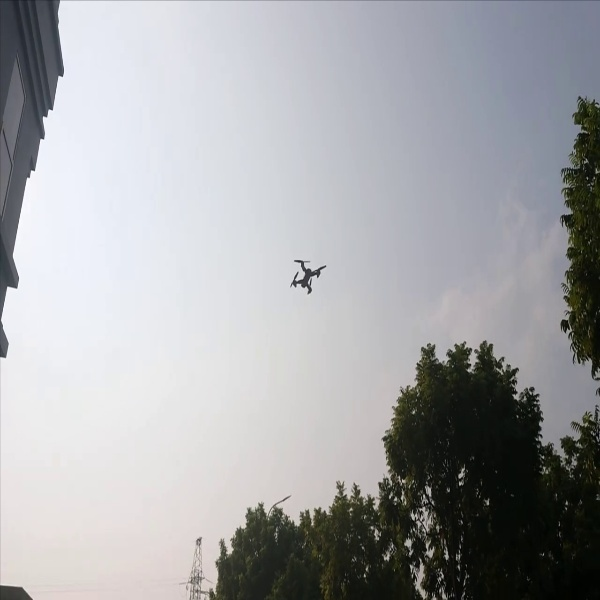drone: (280, 247, 334, 304)
